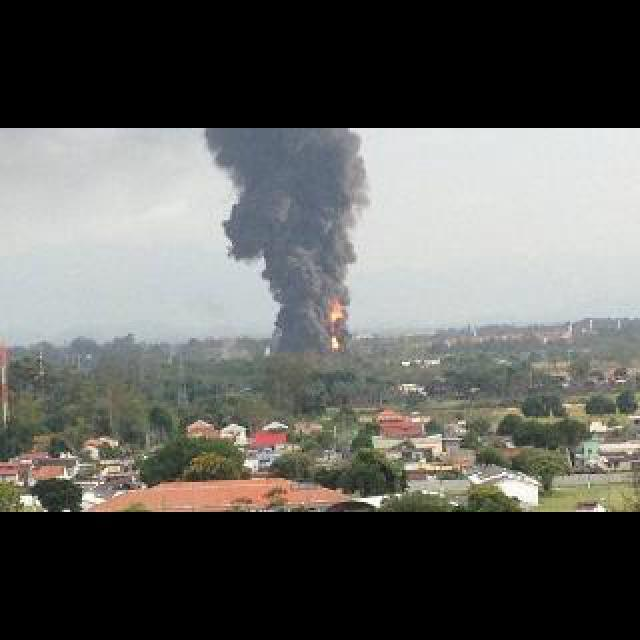Fire: (318, 298, 352, 350)
Smoke: (207, 125, 364, 347)
